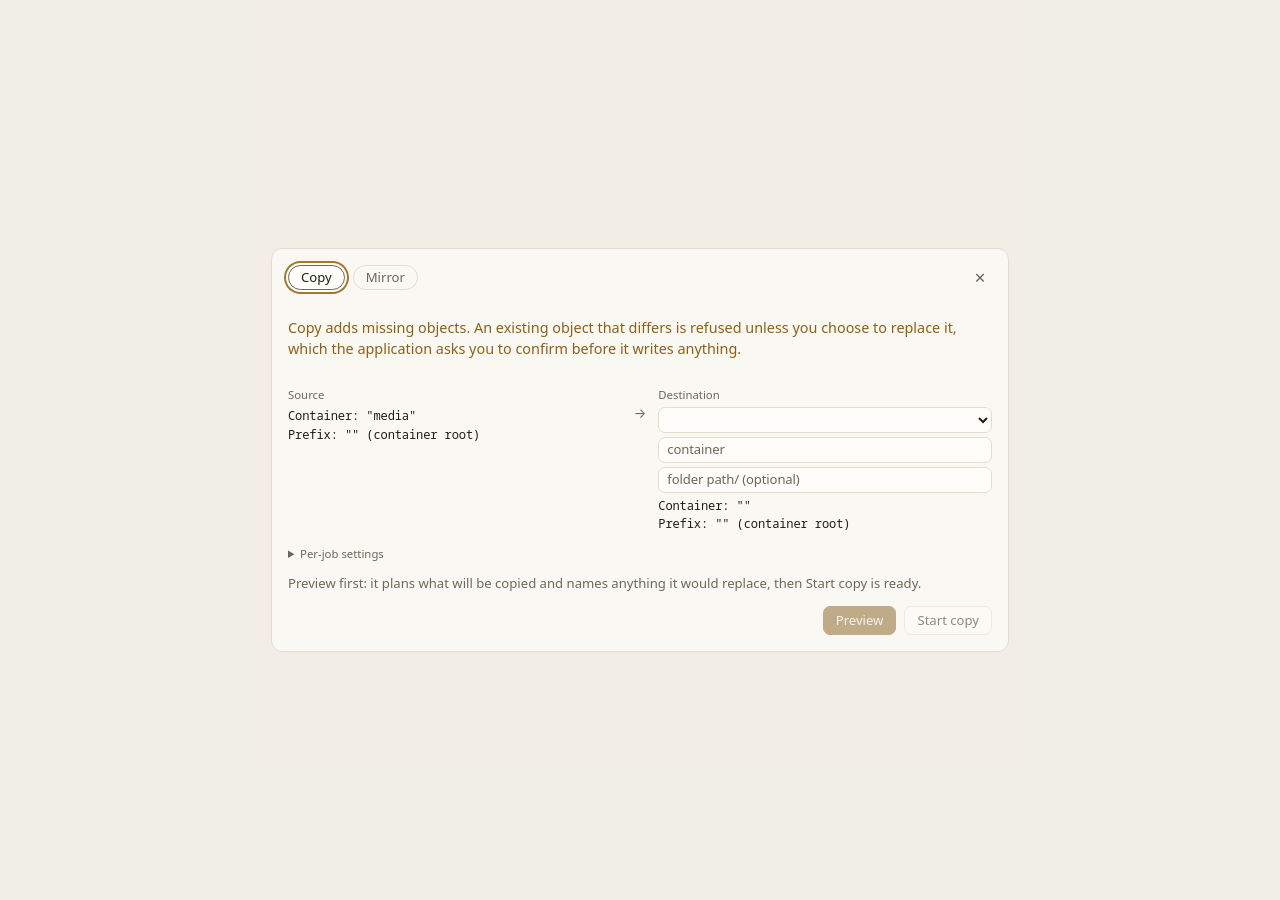
it: states versioning as an observation, not a retention promise, when replacing
Type "backup" into the field with placeholder "container" at (825,450), box [658,437,992,463]
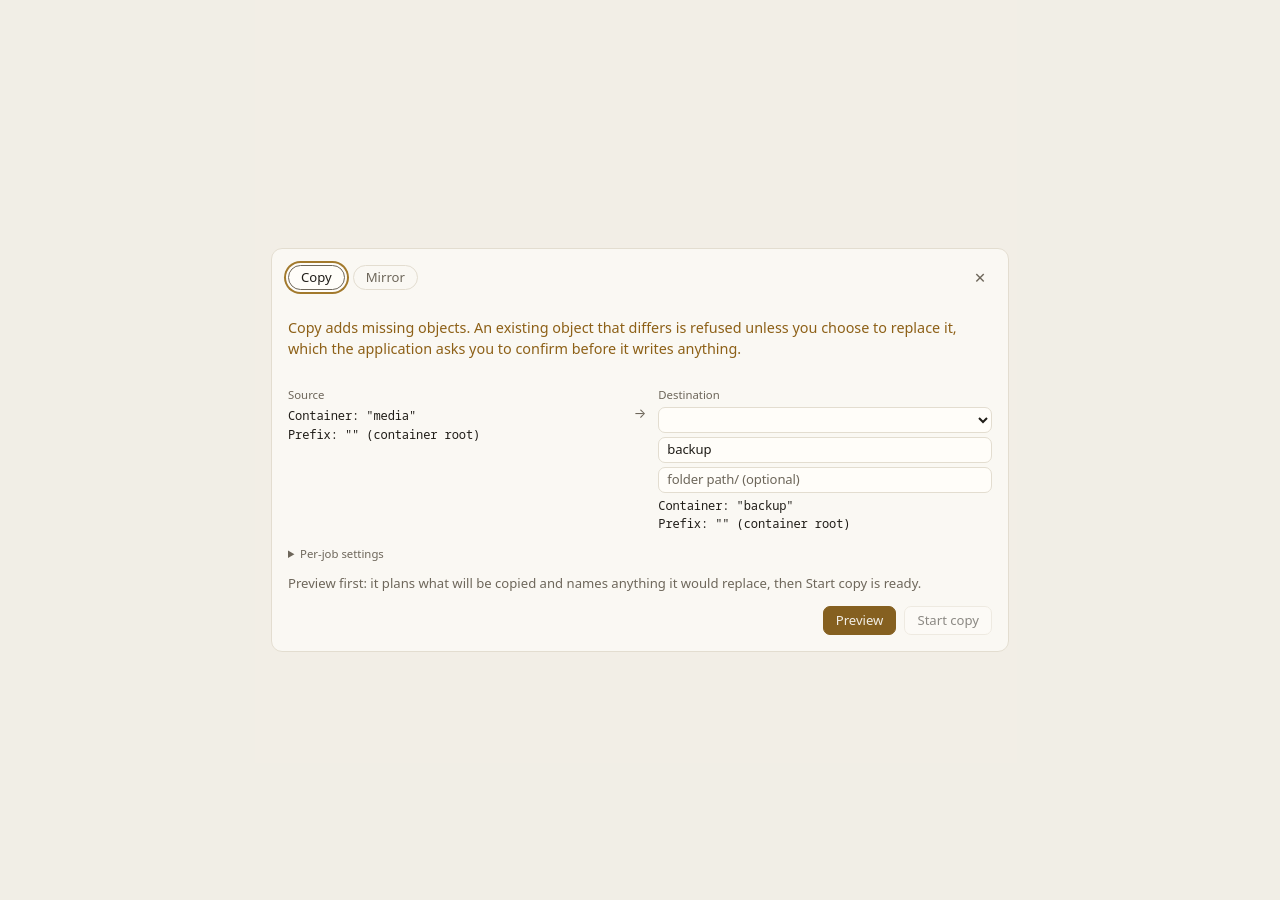
Replace the text in the field with placeholder "container" with "versioned" at (825,450), box [658,437,992,463]
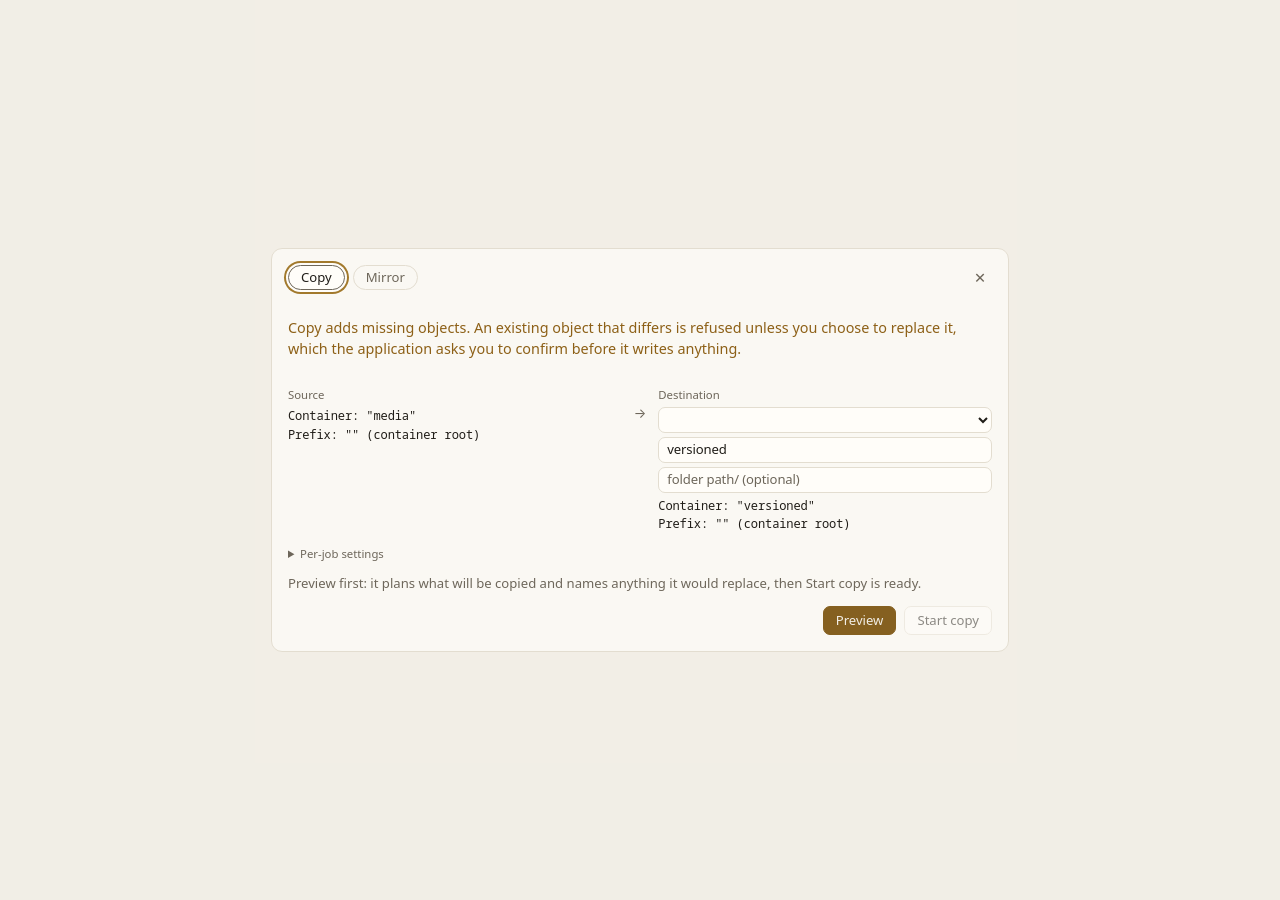
Click the button "Preview" at (860,620), box [823,606,896,635]
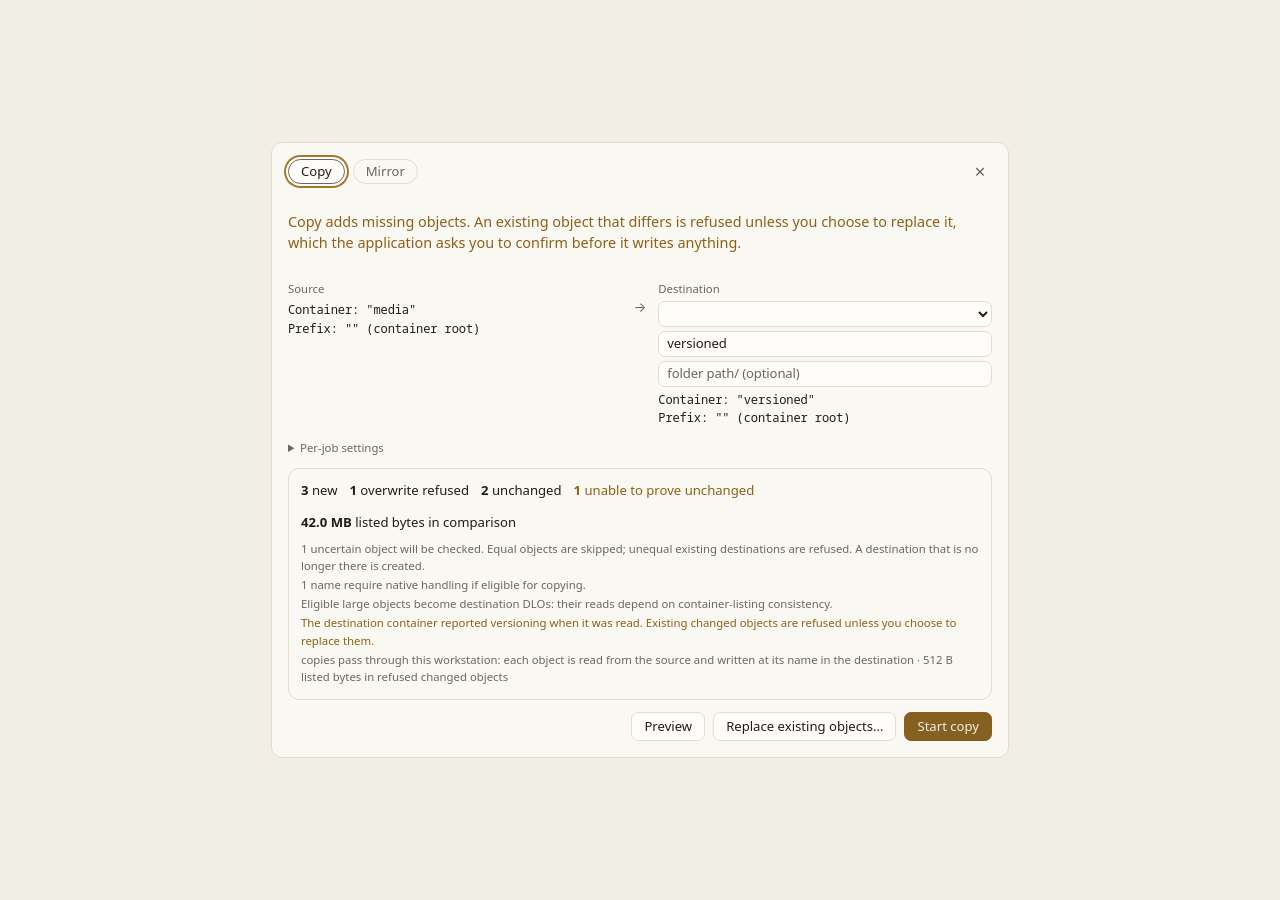
Check: the element that starts with "new" is shown, box [288,468,992,700]
Click the button "Replace existing objects…" at (805,726), box [713,712,896,741]
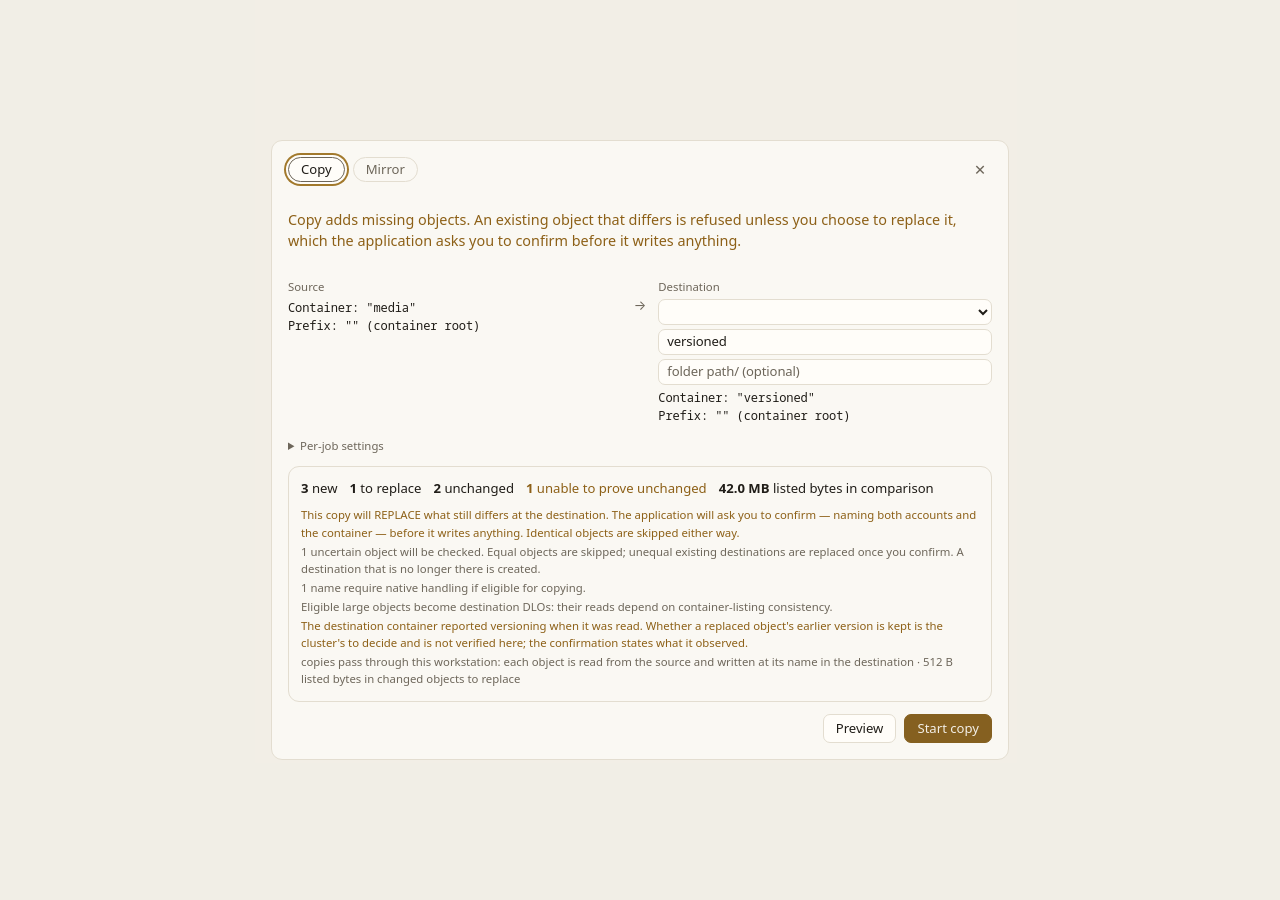
Check: the text "reported versioning" is shown, box [301,618,943,650]
Check: the text "is not verified here" is shown, box [301,618,943,650]
